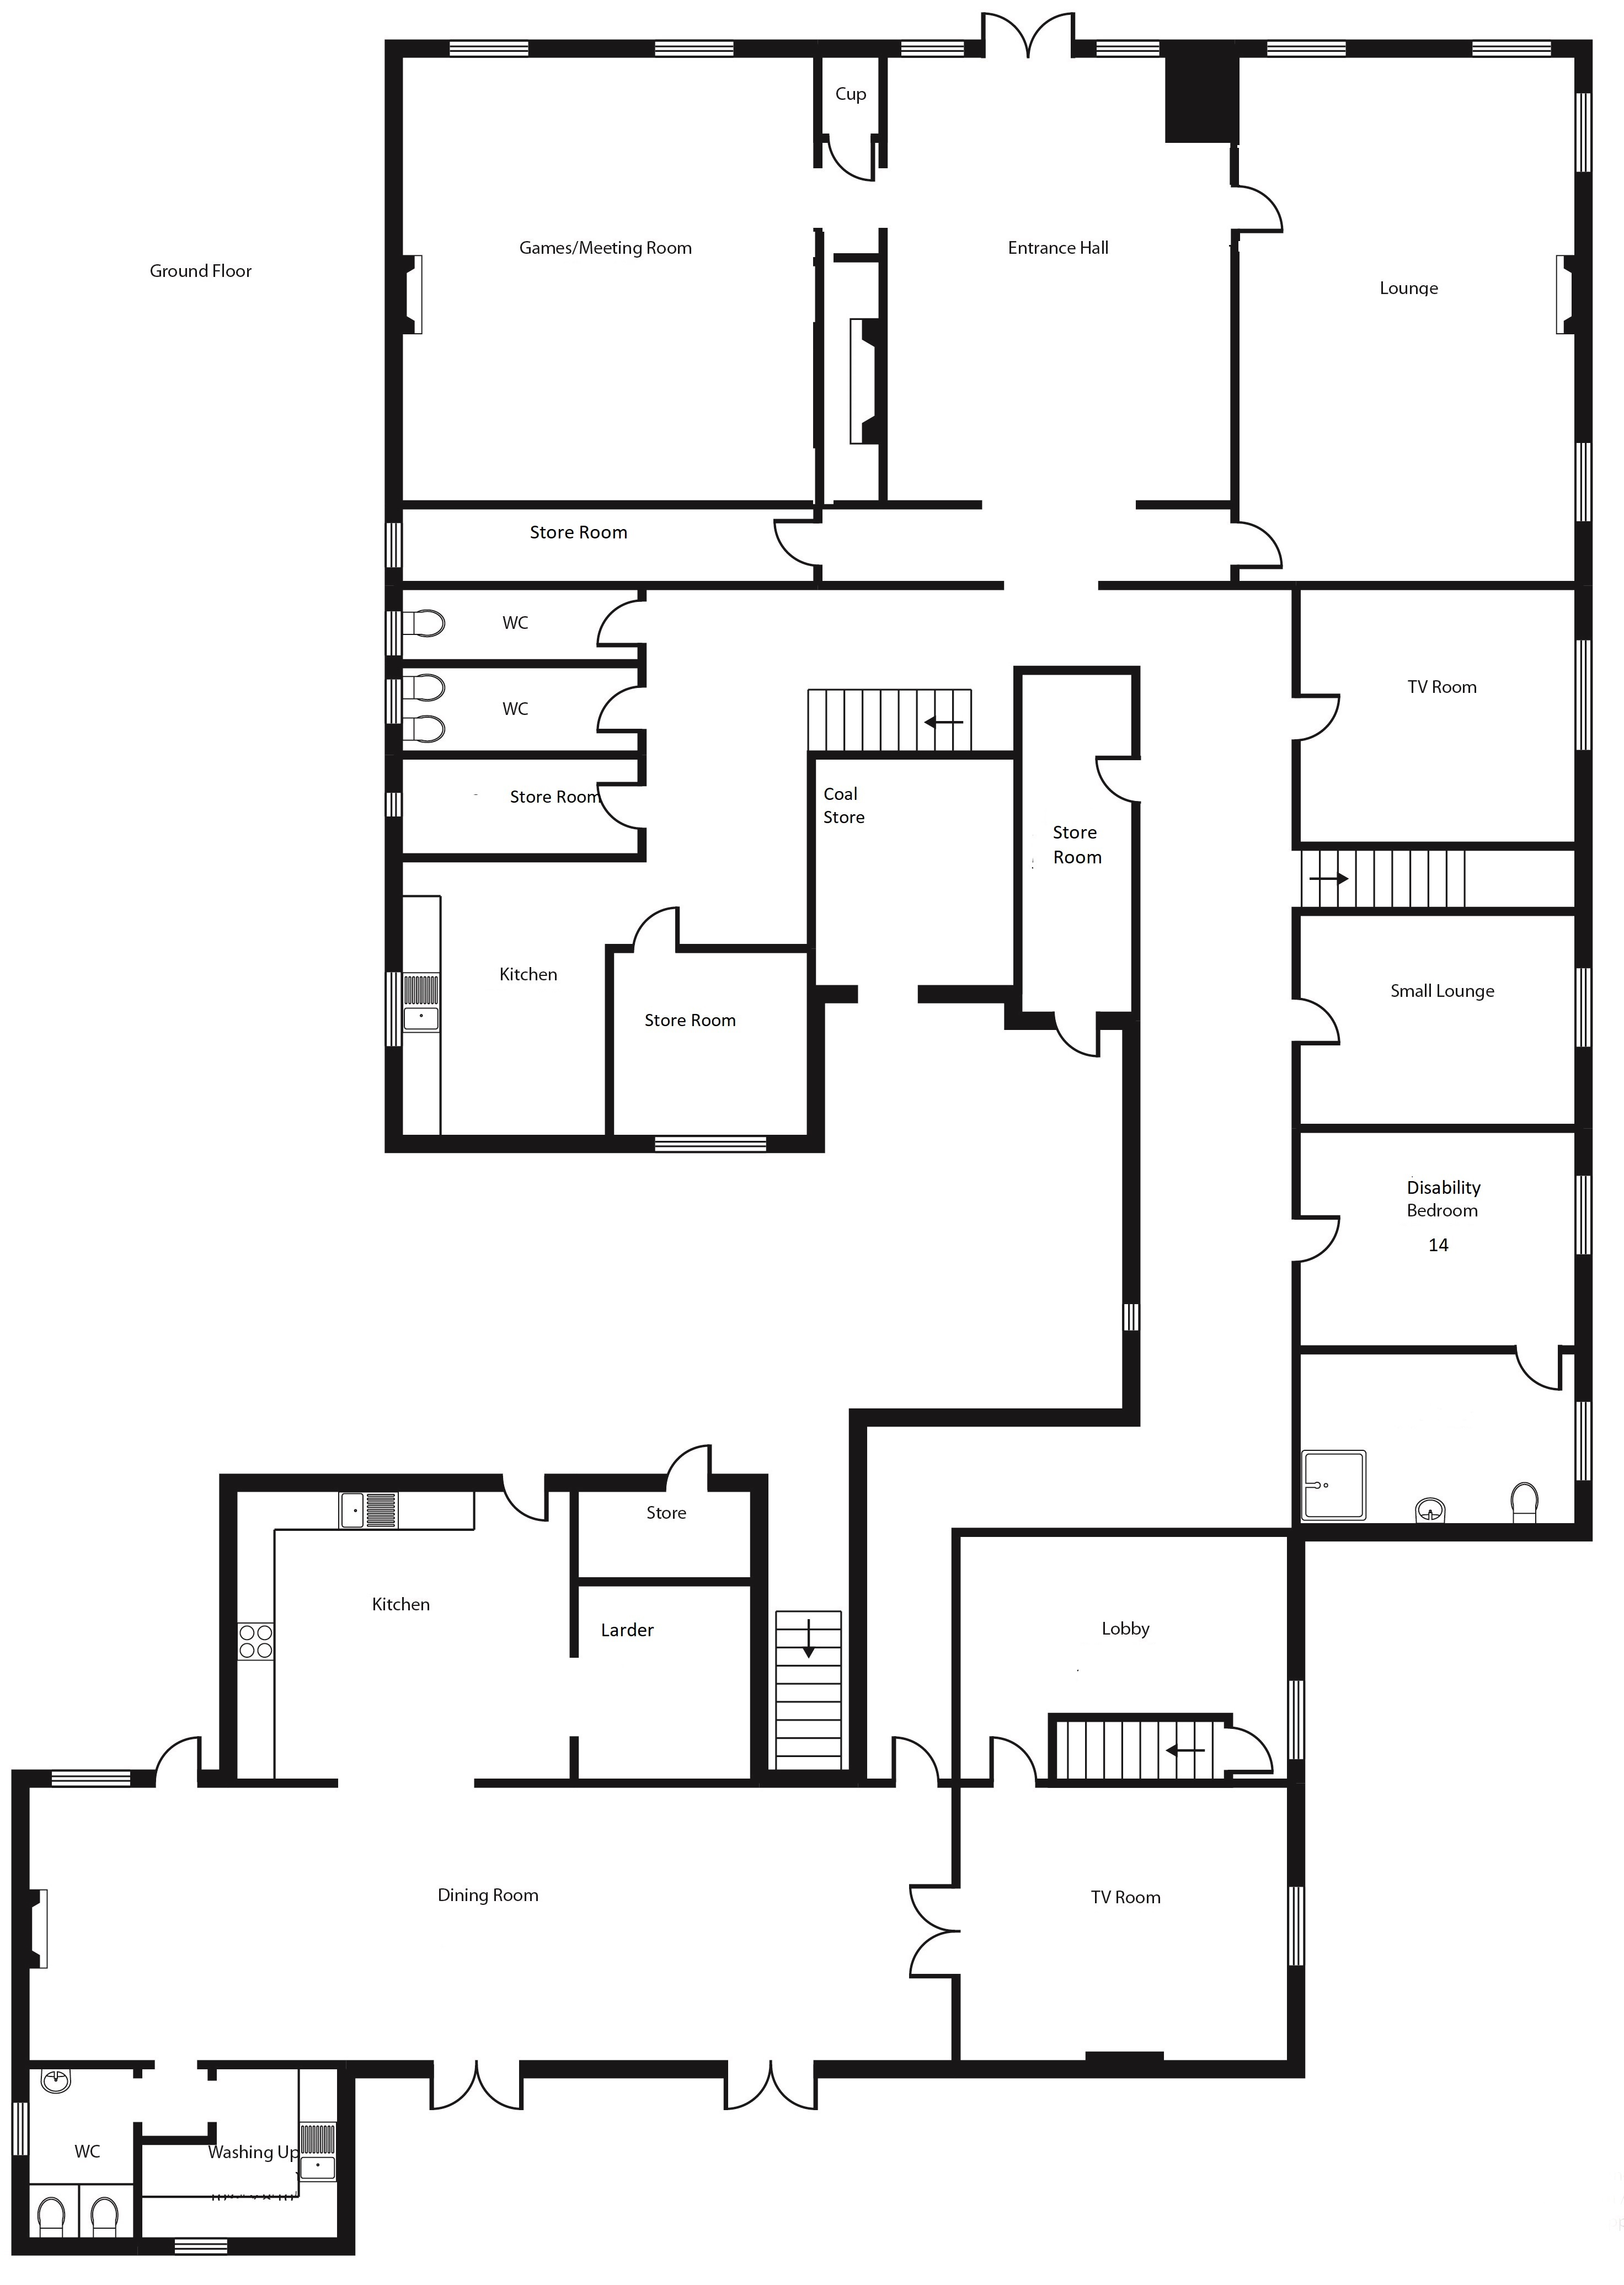window: (1570, 636, 1596, 754), (647, 1134, 770, 1155), (649, 35, 736, 63), (1264, 35, 1352, 63), (446, 35, 533, 63), (1468, 35, 1554, 63), (1570, 1174, 1598, 1260), (1571, 963, 1598, 1051), (1570, 1397, 1596, 1483), (1285, 1677, 1311, 1763), (1283, 1884, 1309, 1970), (1571, 88, 1596, 178), (1571, 439, 1596, 529), (49, 1768, 137, 1793), (383, 968, 404, 1051), (898, 35, 968, 60), (1091, 39, 1162, 62), (170, 2236, 234, 2260), (9, 2099, 33, 2158), (383, 520, 408, 569), (383, 677, 406, 726), (383, 608, 406, 657), (383, 787, 404, 821)
